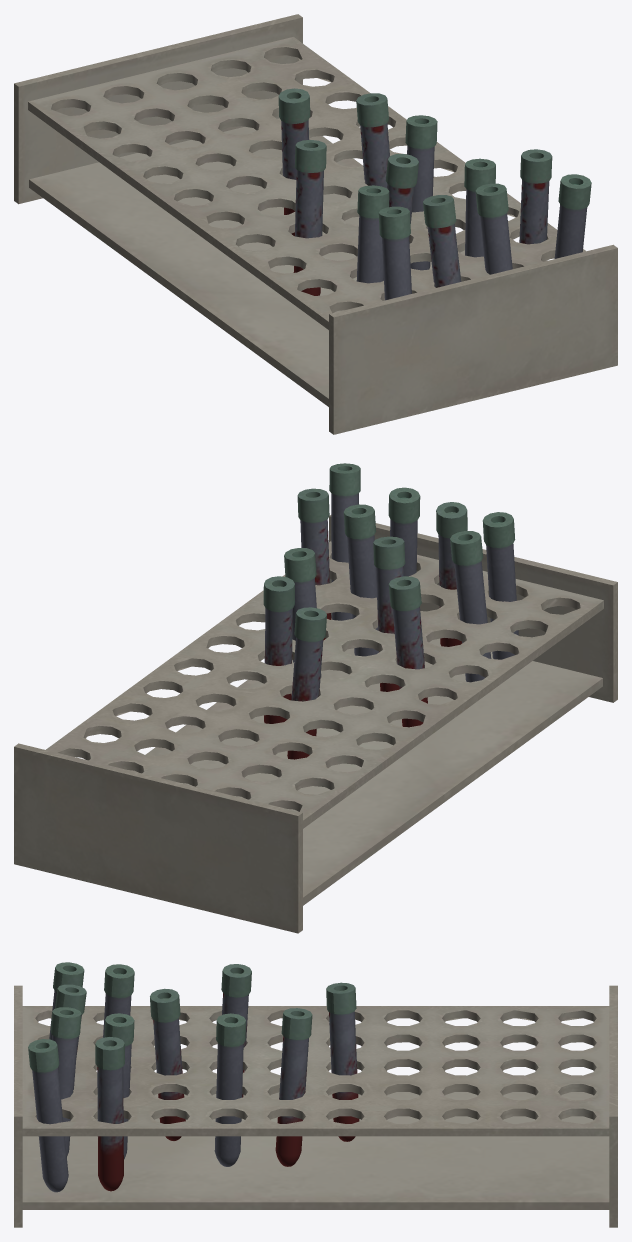
Rendered from VialRack.fbx.
3 views of the same model, one above another, from view 1: azimuth 30°, elevation 25°; view 2: azimuth 150°, elevation 25°; view 3: azimuth 270°, elevation 25° (orthographic). The views are drawn at different scales.
Visible parts, largest first — view 1: Object_46.001, Object_64.001, Object_60.001, Object_56.001, Object_70.001, Object_48.001, Object_66.001, Object_54.001, Object_50.001, Object_58.001, Object_68.001, Object_52.001 (+1 smaller); view 2: Object_46.001, Object_68.001, Object_54.001, Object_64.001, Object_52.001, Object_66.001, Object_56.001, Object_60.001, Object_50.001, Object_62.001, Object_48.001, Object_70.001 (+1 smaller); view 3: Object_46.001, Object_60.001, Object_50.001, Object_66.001, Object_58.001, Object_68.001, Object_62.001, Object_48.001, Object_64.001, Object_54.001, Object_52.001, Object_56.001 (+1 smaller).
Boxes of the visible parts, x1,y1,x2,y2 form: Object_46.001: [14, 14, 617, 434]; Object_64.001: [293, 140, 326, 295]; Object_60.001: [519, 149, 552, 244]; Object_56.001: [378, 206, 411, 300]; Object_70.001: [423, 195, 461, 287]; Object_48.001: [475, 183, 512, 274]; Object_66.001: [356, 93, 389, 188]; Object_54.001: [356, 185, 389, 283]; Object_50.001: [554, 174, 591, 258]; Object_58.001: [405, 115, 437, 270]; Object_68.001: [278, 88, 310, 235]; Object_52.001: [464, 158, 495, 257]; Object_46.001: [14, 515, 617, 933]; Object_68.001: [287, 607, 326, 759]; Object_54.001: [450, 531, 491, 682]; Object_64.001: [388, 576, 427, 727]; Object_52.001: [343, 504, 378, 656]; Object_66.001: [263, 576, 294, 723]; Object_56.001: [482, 512, 518, 659]; Object_60.001: [297, 488, 331, 640]; Object_50.001: [329, 463, 360, 620]; Object_62.001: [373, 536, 405, 691]; Object_48.001: [388, 487, 420, 576]; Object_70.001: [436, 502, 467, 646]; Object_46.001: [14, 985, 617, 1227]; Object_60.001: [95, 1037, 124, 1191]; Object_50.001: [28, 1039, 68, 1192]; Object_66.001: [275, 1008, 312, 1166]; Object_58.001: [214, 1013, 245, 1166]; Object_68.001: [326, 982, 359, 1141]; Object_62.001: [150, 988, 185, 1140]; Object_48.001: [50, 1007, 81, 1156]; Object_64.001: [221, 964, 251, 1097]; Object_54.001: [103, 964, 134, 1037]; Object_52.001: [104, 1013, 134, 1159]; Object_56.001: [49, 962, 84, 1039].
Bounding box in the file's own units: 18.03 × 10.96 × 35.12.
